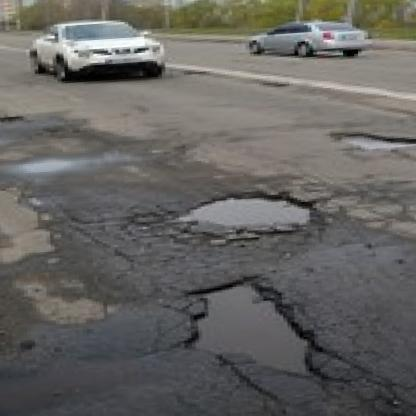pothole: (180, 272, 317, 388), (174, 187, 322, 238), (333, 126, 416, 156), (0, 114, 19, 128), (259, 79, 285, 88)
